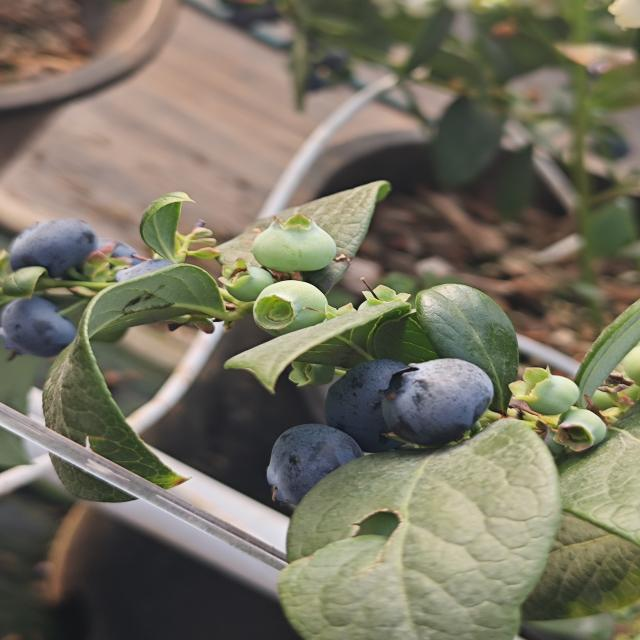ripe: (375, 356, 496, 448), (322, 357, 416, 453), (264, 422, 366, 509), (8, 217, 100, 280), (94, 230, 190, 288), (1, 295, 79, 360)
